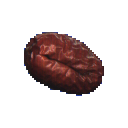ng: (20, 28, 111, 101)
